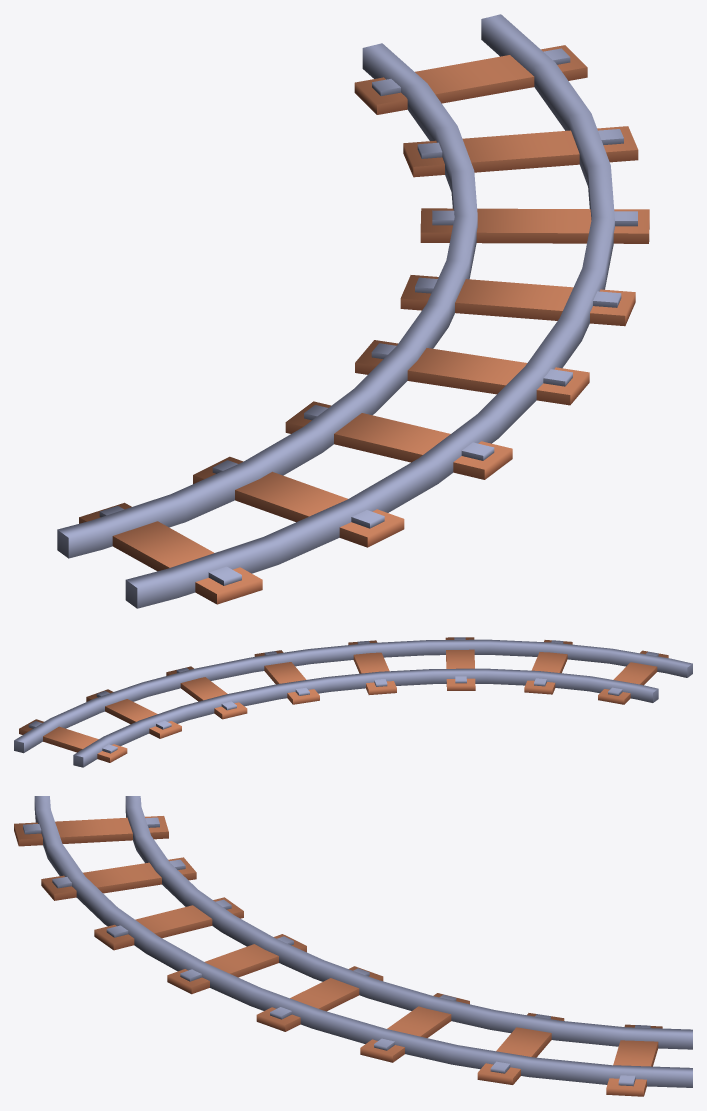
File: railroad-corner-large.glb
3 renders of one model, top to bottom at view 1: azimuth 30°, elevation 25°; view 2: azimuth 150°, elevation 25°; view 3: azimuth 270°, elevation 25°, orthographic. The views are drawn at different scales.
Visible parts, largest first — view 1: railroad-corner-large; view 2: railroad-corner-large; view 3: railroad-corner-large.
Boxes of the visible parts, x1,y1,x2,y2 form: railroad-corner-large: (57, 14, 649, 608); railroad-corner-large: (14, 637, 692, 767); railroad-corner-large: (14, 796, 692, 1096).
Bounding box in the file's own units: 4.49 × 0.1 × 4.49.
